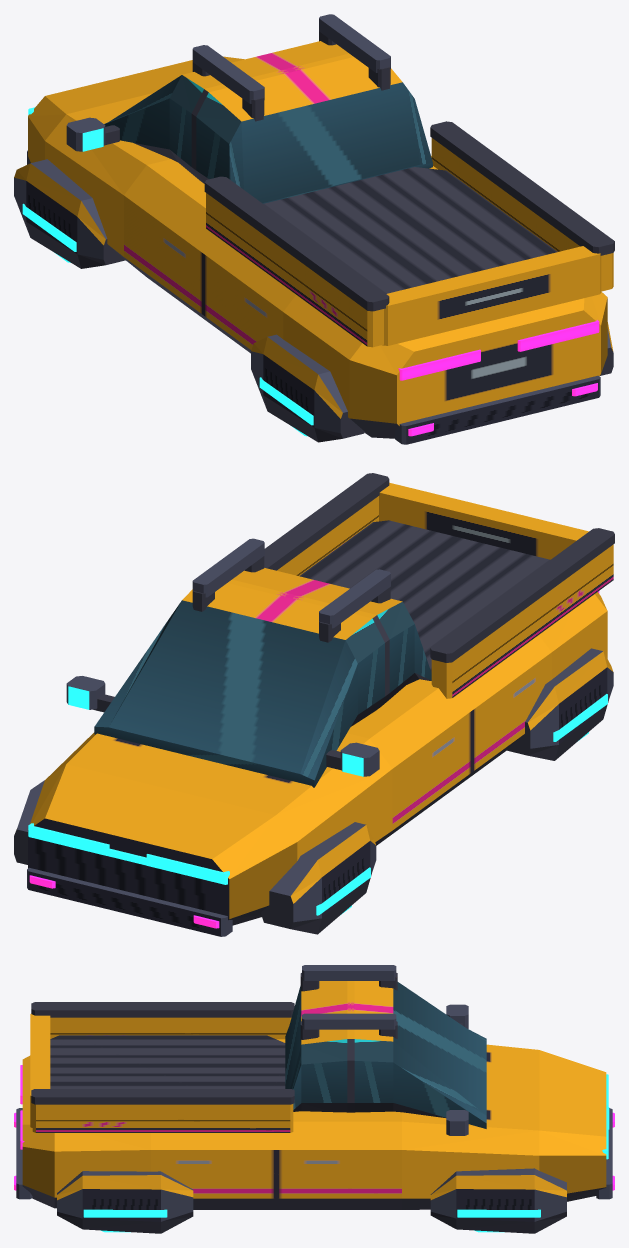
The model's file is saffron_pickup.glb.
3 views of the same model, one above another, from view 1: azimuth 30°, elevation 25°; view 2: azimuth 150°, elevation 25°; view 3: azimuth 270°, elevation 25° (orthographic). The views are drawn at different scales.
Parts seen in each view (by area): view 1: hull, cab_glazing, bed_liner, tailgate, bed_side, front_pod_l, rear_pod_l, bed_cap, bed_cap.001, bumper, bed_side.001, roof_rail (+6 smaller); view 2: hull, cab_glazing, bed_liner, tailgate, front_pod_l, bed_side, rear_pod_l, bed_cap, bumper.001, bed_cap.001, bed_side.001, roof_rail.001 (+6 smaller); view 3: hull, cab_glazing, bed_liner, bed_side.001, front_pod_r, rear_pod_r, bed_side, bed_cap.001, bed_cap, tailgate, roof_rail.001, roof_rail (+6 smaller).
Boxes of the visible parts, x1=… form: hull: x1=28, y1=56, x2=607, y2=438; cab_glazing: x1=104, y1=41, x2=432, y2=203; bed_liner: x1=263, y1=167, x2=557, y2=293; tailgate: x1=382, y1=246, x2=601, y2=345; bed_side: x1=206, y1=193, x2=383, y2=347; front_pod_l: x1=14, y1=159, x2=125, y2=268; rear_pod_l: x1=251, y1=334, x2=364, y2=442; bed_cap: x1=204, y1=176, x2=389, y2=311; bed_cap.001: x1=430, y1=121, x2=614, y2=255; bumper: x1=395, y1=375, x2=600, y2=444; bed_side.001: x1=431, y1=138, x2=613, y2=291; roof_rail: x1=192, y1=45, x2=264, y2=103; hull: x1=28, y1=592, x2=607, y2=925; cab_glazing: x1=94, y1=568, x2=431, y2=787; bed_liner: x1=299, y1=520, x2=550, y2=672; tailgate: x1=379, y1=482, x2=588, y2=559; front_pod_l: x1=261, y1=822, x2=376, y2=934; bed_side: x1=431, y1=544, x2=613, y2=698; rear_pod_l: x1=506, y1=648, x2=613, y2=760; bed_cap: x1=430, y1=528, x2=614, y2=662; bumper.001: x1=27, y1=867, x2=232, y2=936; bed_cap.001: x1=264, y1=473, x2=389, y2=570; bed_side.001: x1=277, y1=496, x2=378, y2=575; roof_rail.001: x1=192, y1=538, x2=264, y2=597; hull: x1=22, y1=1039, x2=606, y2=1209; cab_glazing: x1=285, y1=981, x2=486, y2=1128; bed_liner: x1=50, y1=1035, x2=285, y2=1088; bed_side.001: x1=32, y1=1104, x2=293, y2=1132; front_pod_r: x1=430, y1=1168, x2=566, y2=1233; rear_pod_r: x1=57, y1=1171, x2=193, y2=1233; bed_side: x1=50, y1=1017, x2=291, y2=1039; bed_cap.001: x1=31, y1=1089, x2=294, y2=1104; bed_cap: x1=31, y1=1002, x2=294, y2=1017; tailgate: x1=30, y1=1014, x2=50, y2=1127; roof_rail.001: x1=302, y1=1013, x2=396, y2=1029; roof_rail: x1=302, y1=965, x2=396, y2=980.
Size of the model in its own units: 2.21 by 1.65 by 4.82.
3 materials, 3 textured.
